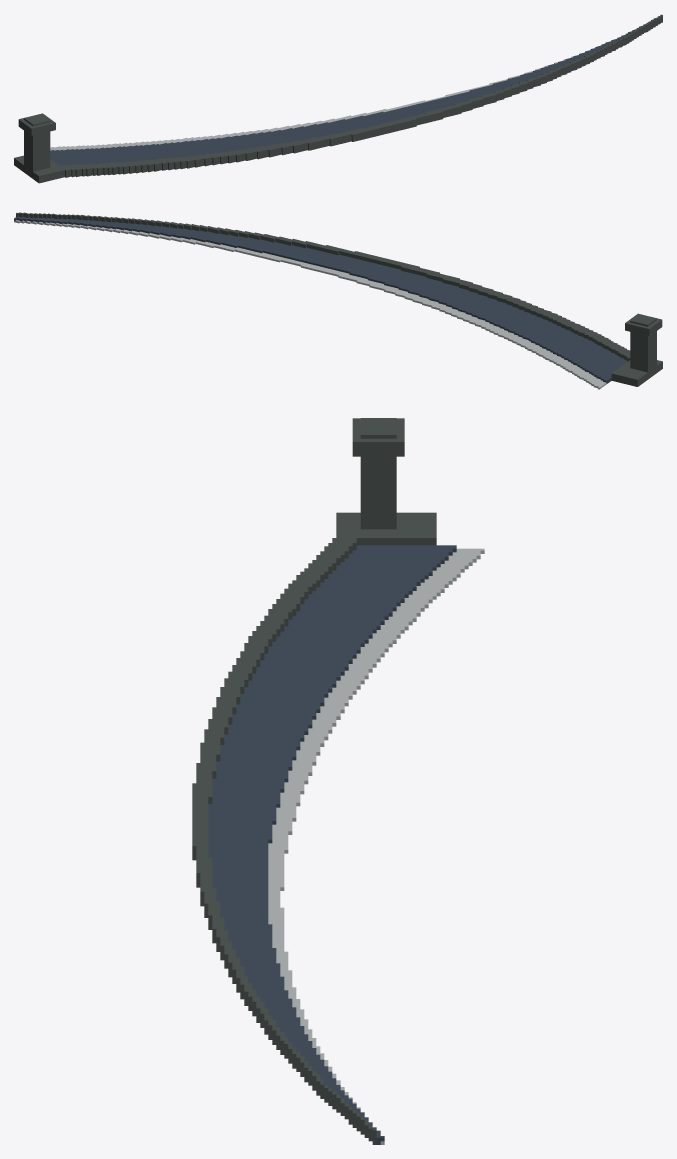
Rendered from blade_scythe.glb.
3 views of the same model, one above another, from view 1: azimuth 30°, elevation 25°; view 2: azimuth 150°, elevation 25°; view 3: azimuth 270°, elevation 25° (orthographic). The views are drawn at different scales.
Visible parts, largest first — view 1: blade_scythe:compound; view 2: blade_scythe:compound; view 3: blade_scythe:compound.
Part boxes in pixels (<box>): blade_scythe:compound: <box>14,14,662,183</box>; blade_scythe:compound: <box>14,212,662,389</box>; blade_scythe:compound: <box>192,418,484,1144</box>.
Bounding box in the file's own units: 0.734 × 0.06 × 0.146.
